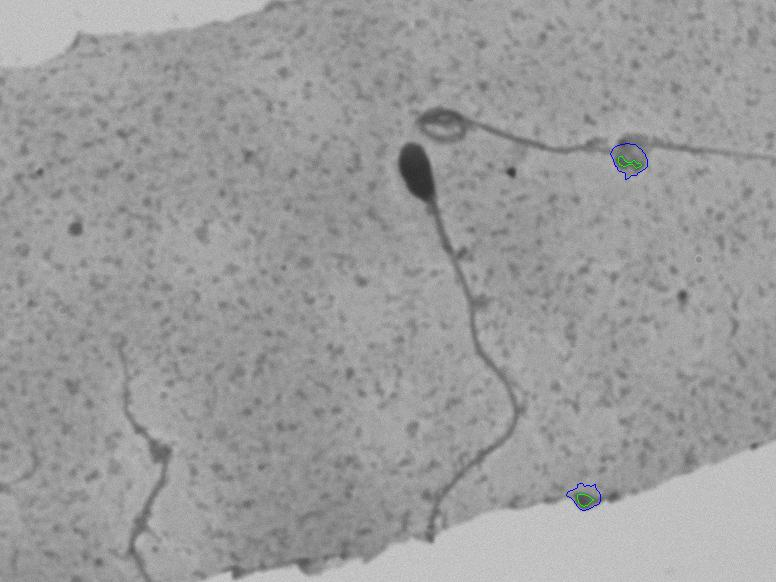Abnormal: (363, 134, 539, 517)
